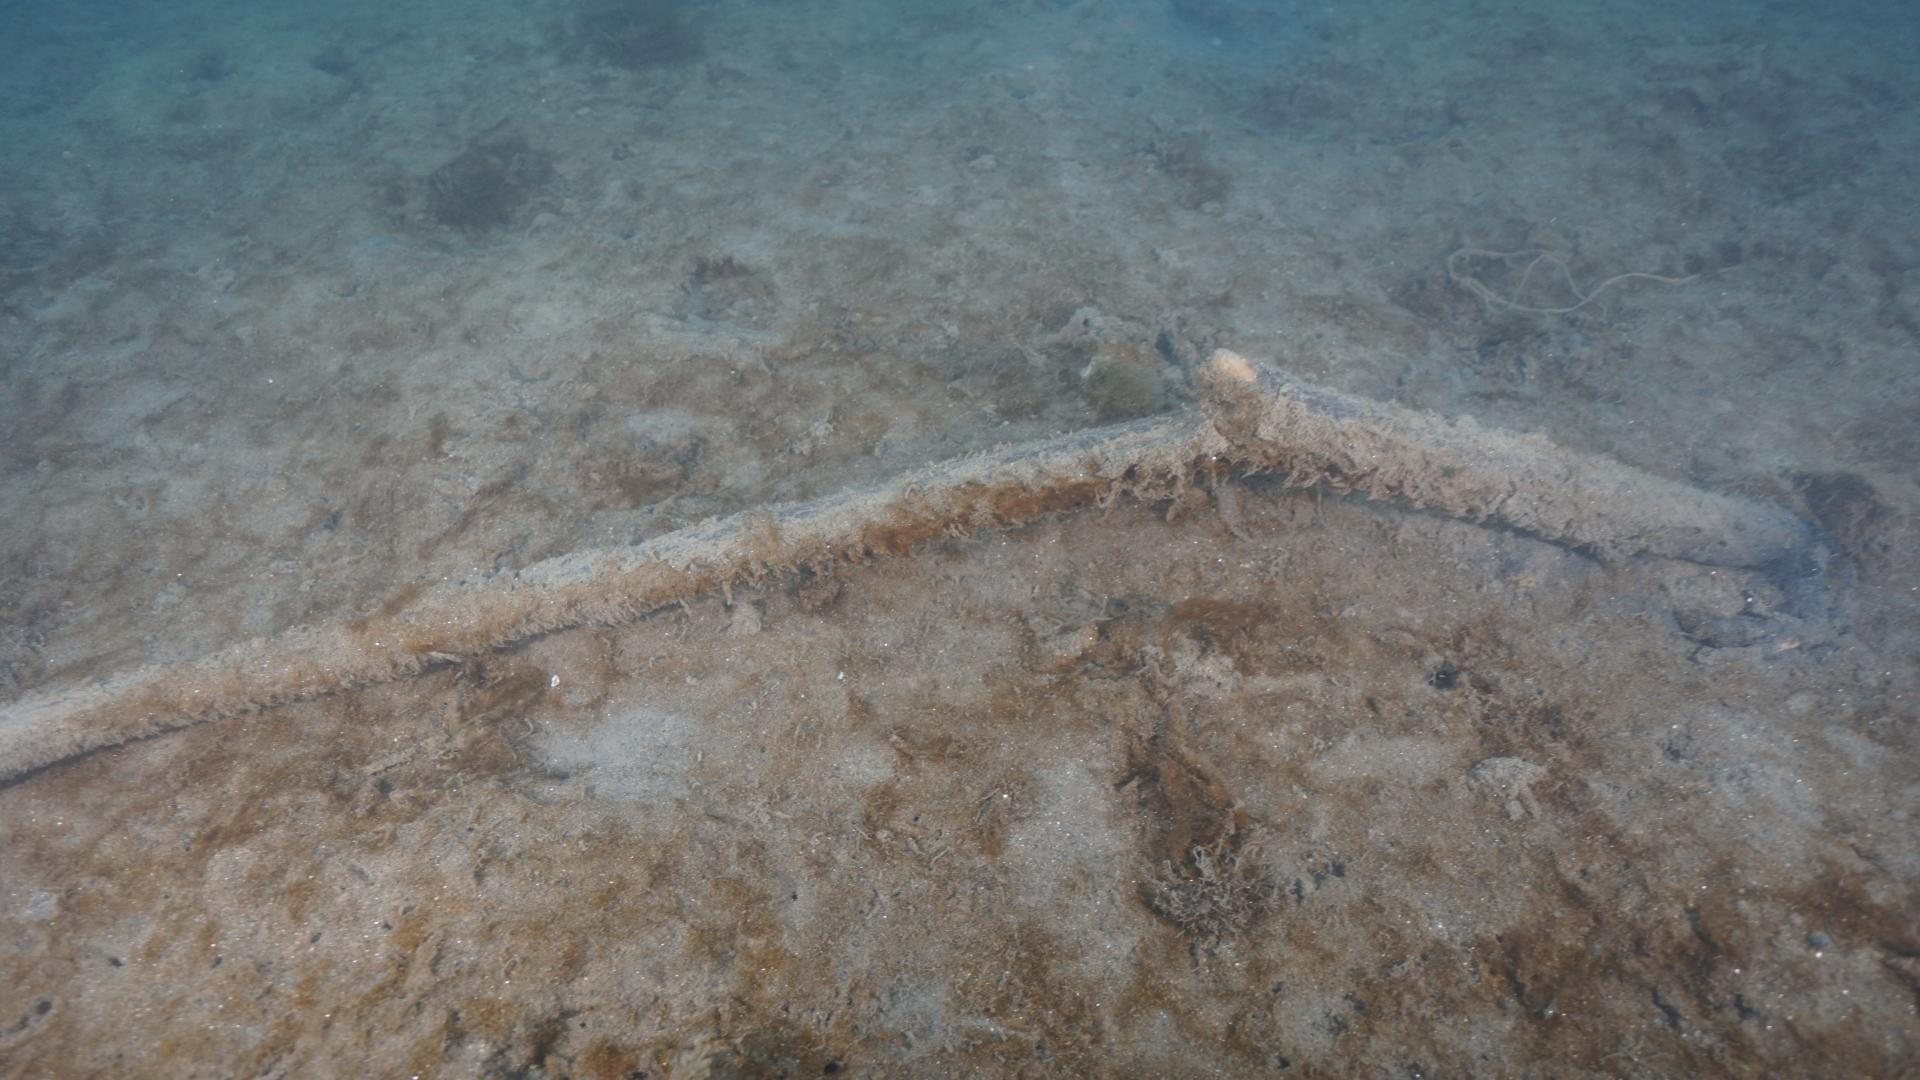wood: (0, 343, 1821, 795)
